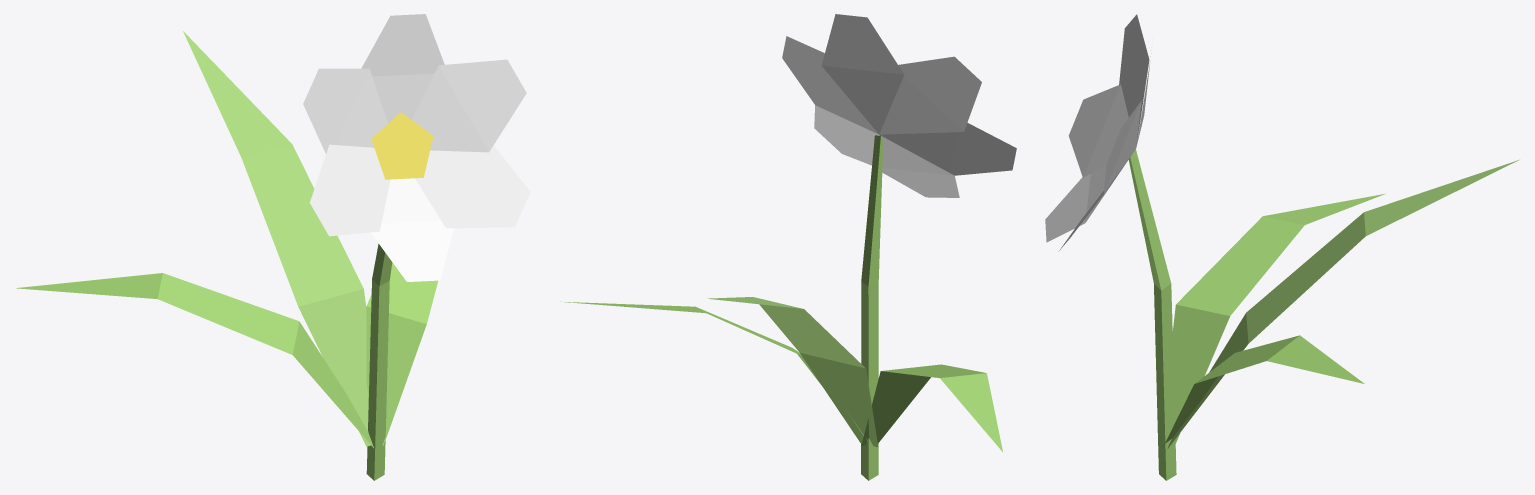
File: Flower_e_OneS_08.fbx
The picture shows the model from 3 angles, left to right: view 1: azimuth 30°, elevation 25°; view 2: azimuth 150°, elevation 25°; view 3: azimuth 270°, elevation 25°; orthographic projection. The views are drawn at different scales.
Parts seen in each view (by area): view 1: Flower_e_OneS_08; view 2: Flower_e_OneS_08; view 3: Flower_e_OneS_08.
Part boxes in pixels (<box>): Flower_e_OneS_08: <box>16,14,530,480</box>; Flower_e_OneS_08: <box>560,14,1016,480</box>; Flower_e_OneS_08: <box>1045,14,1519,480</box>.
Bounding box in the file's own units: 0.4139 × 0.3934 × 0.3728.
